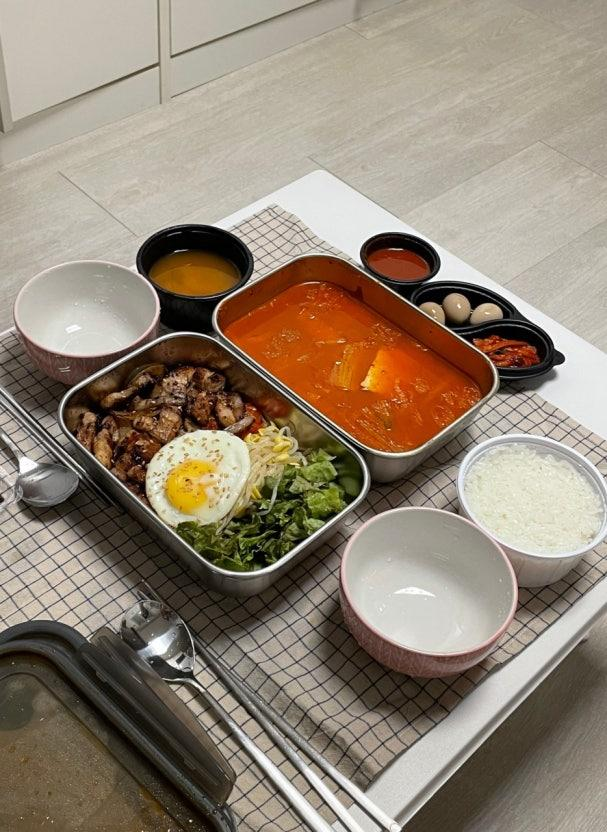Lunch Box: (58, 333, 369, 596), (213, 255, 499, 481), (0, 620, 236, 831), (457, 434, 606, 587), (411, 281, 564, 380)
cup: (340, 507, 515, 677), (14, 260, 159, 385), (136, 224, 253, 331), (360, 232, 440, 297)
